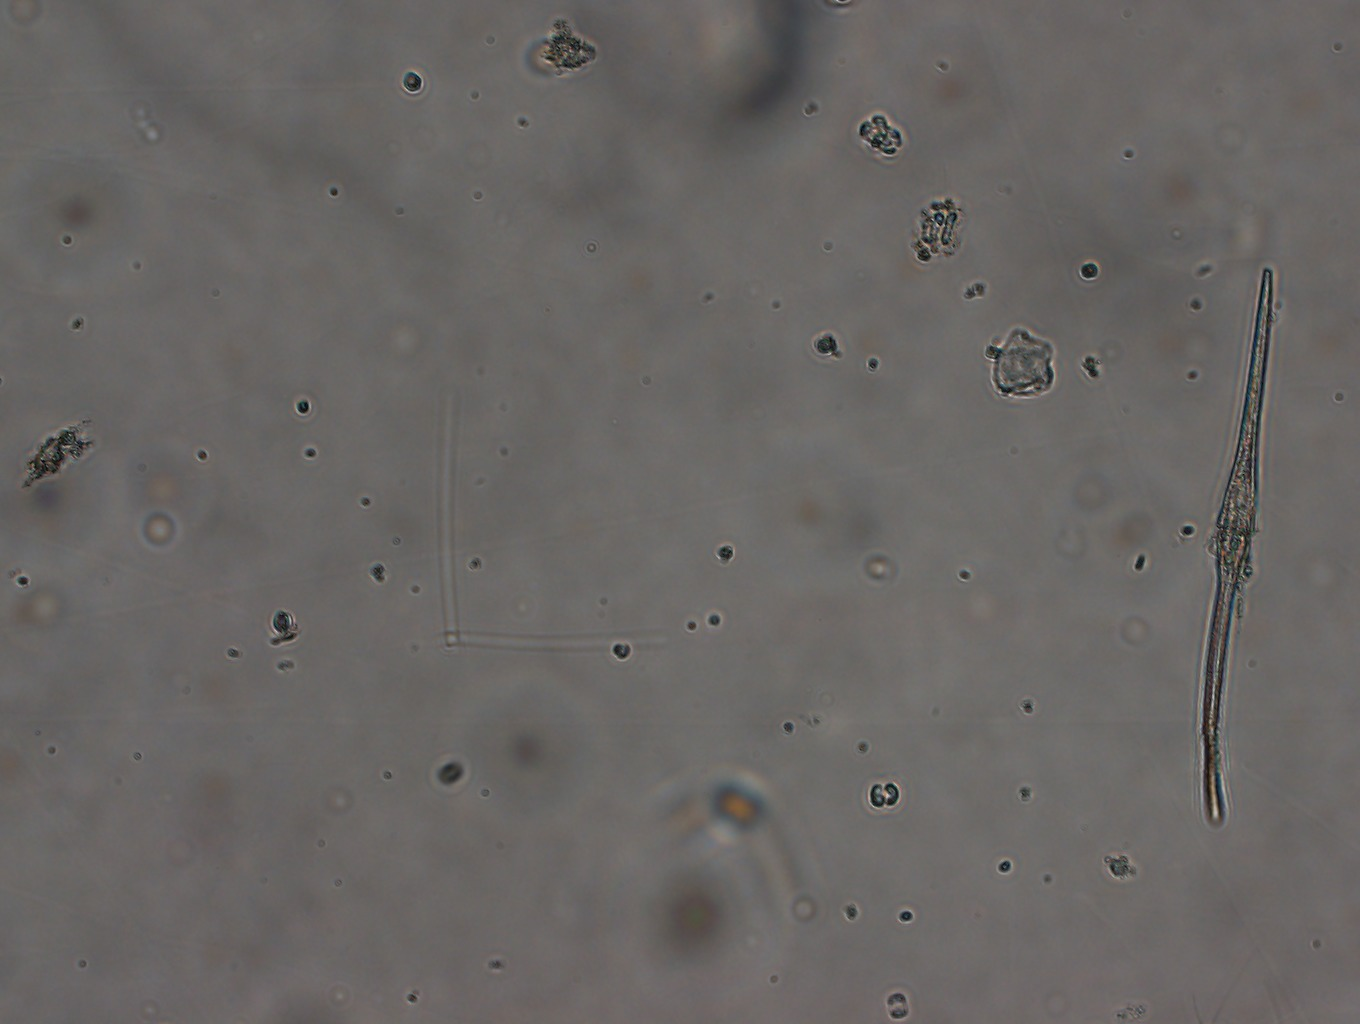ceratium fusus: (1183, 257, 1285, 825)
